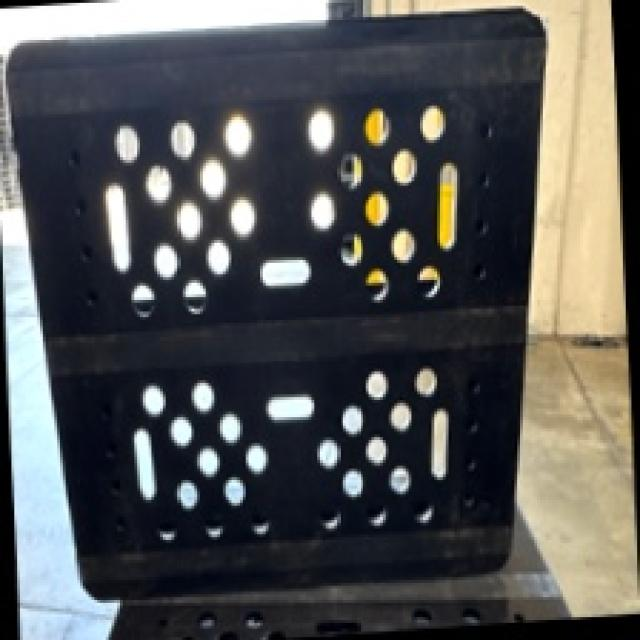igps: (0, 0, 555, 607)
